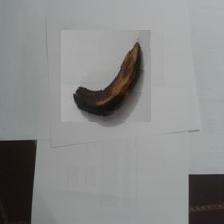Banana Rotten: (62, 31, 152, 123)
